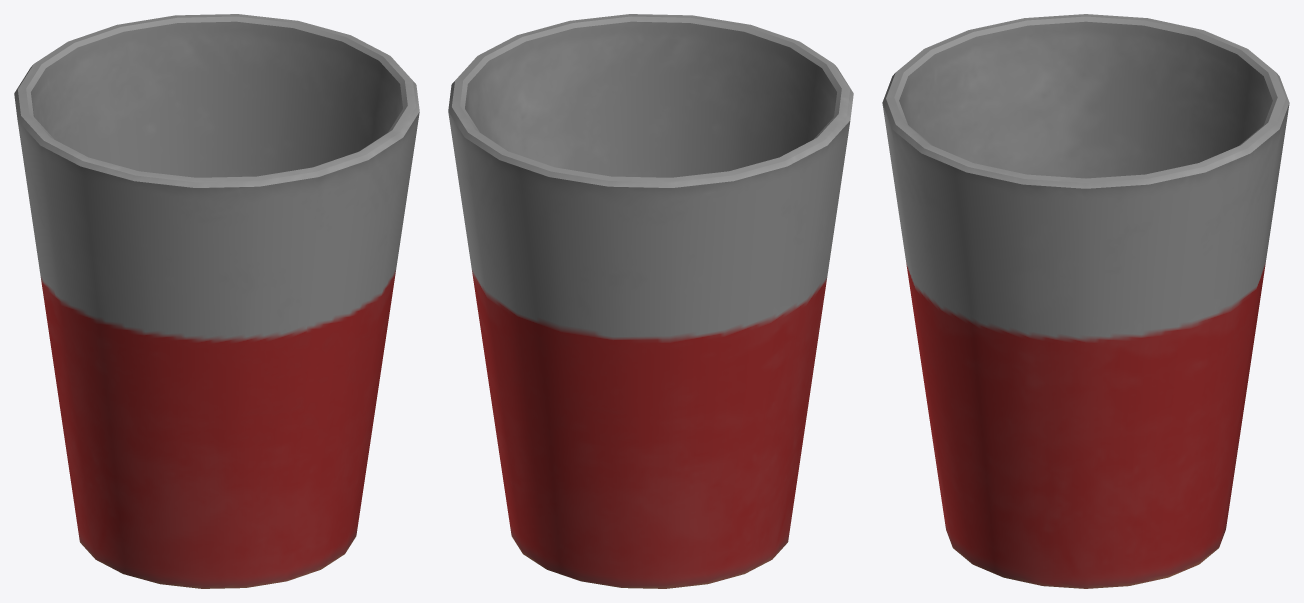
File: SM_Cup3.fbx
3 views of the same model, side by side, from view 1: azimuth 30°, elevation 25°; view 2: azimuth 150°, elevation 25°; view 3: azimuth 270°, elevation 25° (orthographic).
Visible parts, largest first — view 1: SM_Cup3_LOD0; view 2: SM_Cup3_LOD0; view 3: SM_Cup3_LOD0.
Part boxes in pixels (<box>): SM_Cup3_LOD0: <box>14,14,419,588</box>; SM_Cup3_LOD0: <box>448,14,853,588</box>; SM_Cup3_LOD0: <box>882,14,1289,588</box>.
Bounding box in the file's own units: 9.43 × 9.43 × 11.04.
Materials: 1 (1 with a texture image).
